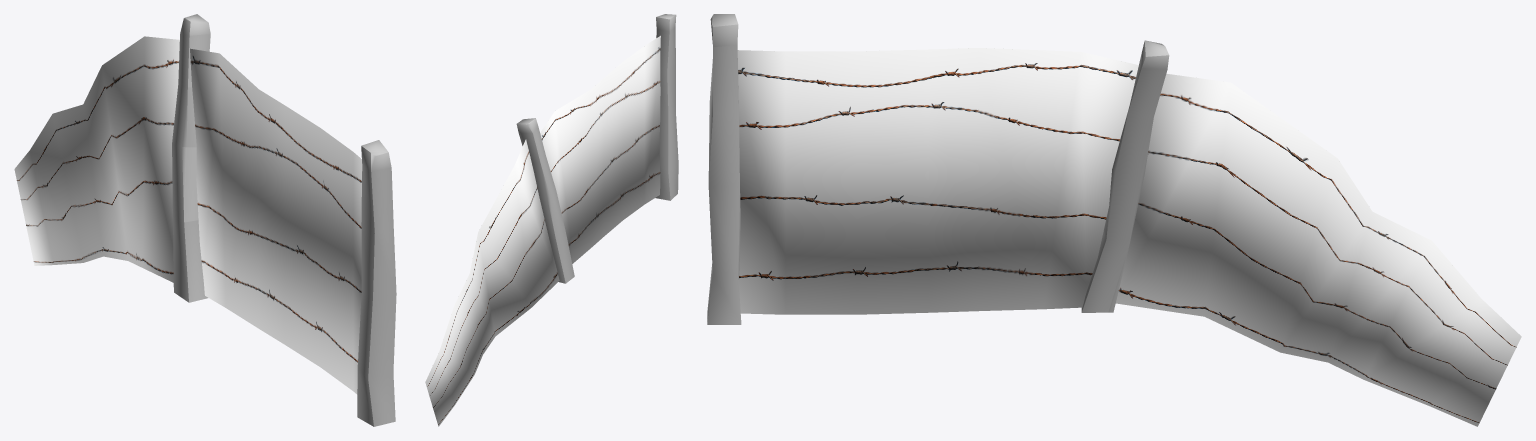
The model's file is Fence_Broken.fbx.
3 renders of one model, left to right at view 1: azimuth 30°, elevation 25°; view 2: azimuth 150°, elevation 25°; view 3: azimuth 270°, elevation 25°, orthographic. The views are drawn at different scales.
Parts seen in each view (by area): view 1: Fence_Broken; view 2: Fence_Broken; view 3: Fence_Broken.
Boxes of the visible parts, x1,y1,x2,y2 form: Fence_Broken: [14, 14, 396, 426]; Fence_Broken: [425, 14, 678, 426]; Fence_Broken: [707, 14, 1521, 426].
Bounding box in the file's own units: 30.6 × 218 × 395.
